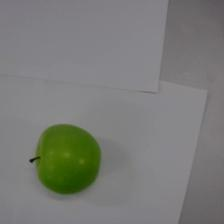green: (31, 122, 102, 195)
